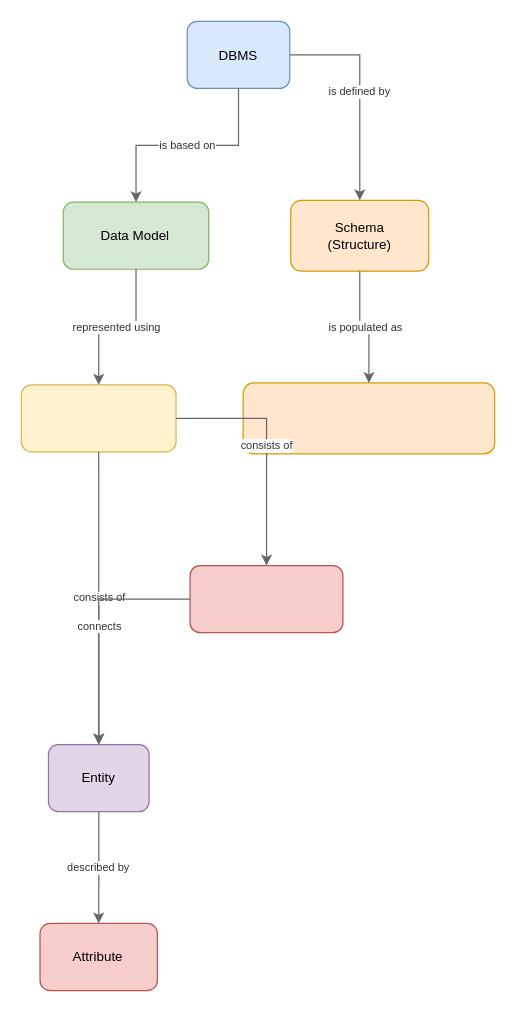
Some shapes in this 516 by 1013 pixel diagram are drawn without their labels. Here are the shapes that lost their labels. From the top down, the centre of each, then its label:
At point 98,418: "ER Diagram".
At point 368,418: "Instance (Data at a point in time)".
At point 266,598: "Relationship".
